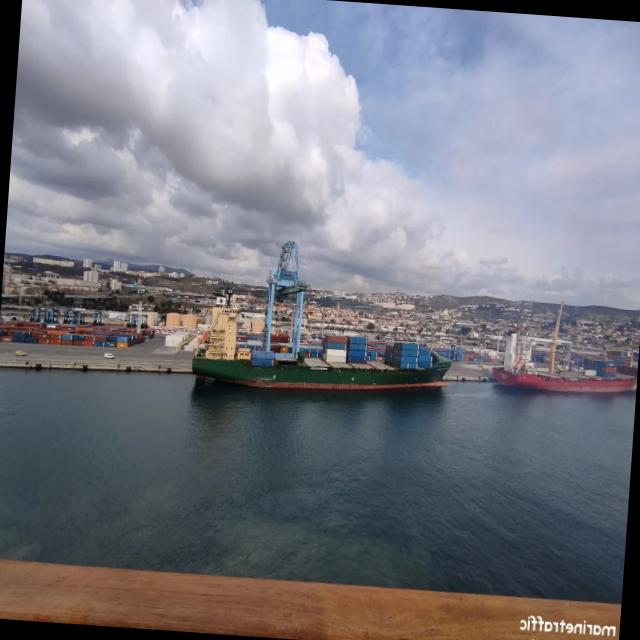Cargo: (192, 306, 450, 390)
